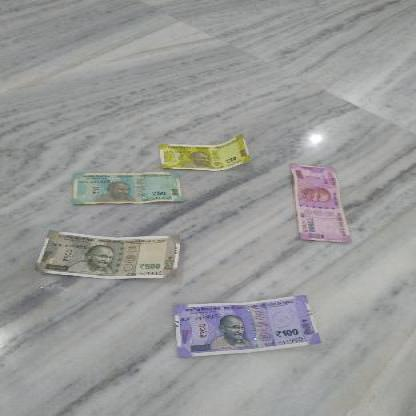New100Front: (167, 301, 324, 351)
New2000Front: (292, 160, 353, 240)
New20Front: (160, 142, 263, 164)
New500Front: (38, 231, 174, 278)
New50Front: (74, 169, 178, 200)
